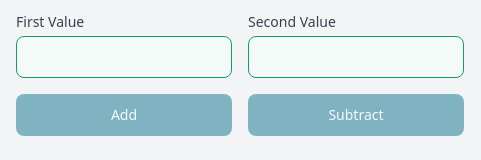
it: CalculatorFormAndResult › Input fields interactions › enables Add submit button when all fields are valid
In the field labelled "First Value": [124, 57] box 16,36 -> 232,78, type "1"
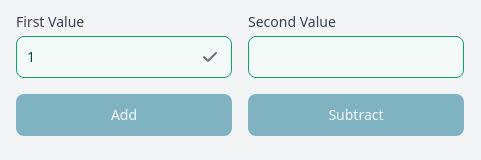
In the field labelled "Second Value": [356, 57] box 248,36 -> 464,78, type "2"
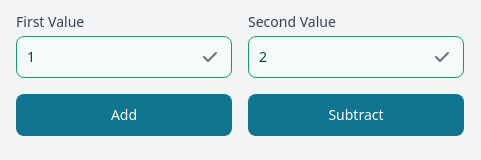
Now the button "Add" is enabled, box 16,94 -> 232,136
